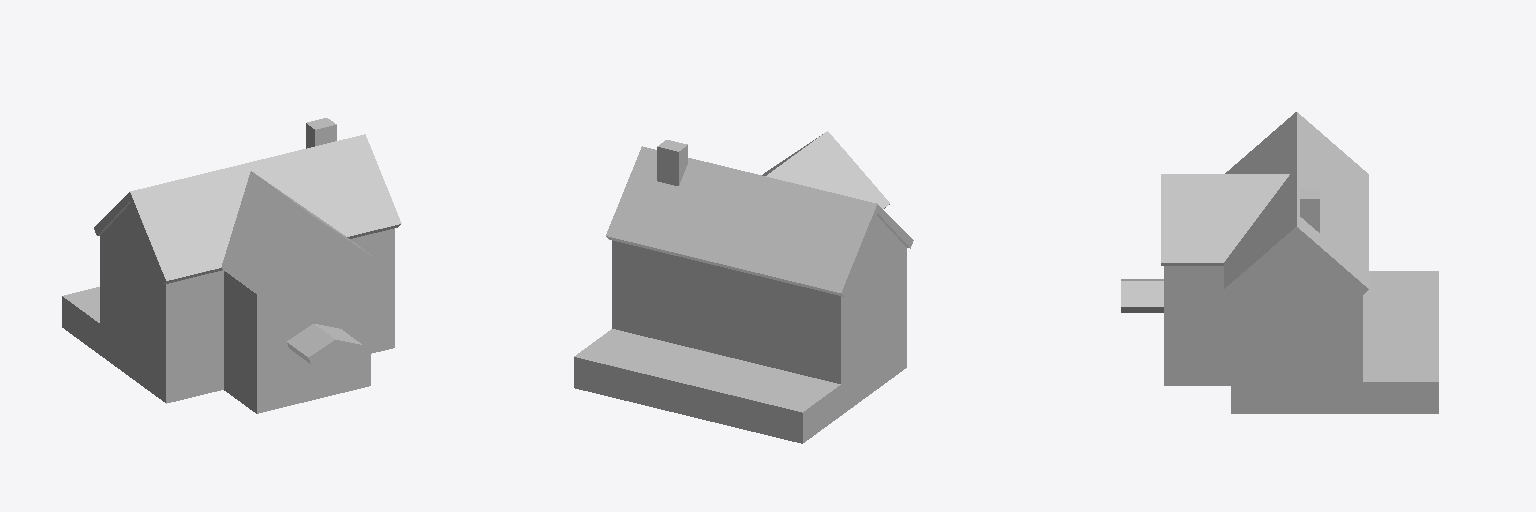
Rendered from FarmHouse.obj.
3 views of the same model, side by side, from view 1: azimuth 30°, elevation 25°; view 2: azimuth 150°, elevation 25°; view 3: azimuth 270°, elevation 25° (orthographic).
Parts seen in each view (by area): view 1: FarmHouse PROPS; view 2: FarmHouse PROPS; view 3: FarmHouse PROPS.
Part boxes in pixels (x1,y1,x2,y2): FarmHouse PROPS: (62, 118, 401, 413); FarmHouse PROPS: (574, 131, 913, 443); FarmHouse PROPS: (1121, 112, 1438, 413).
Bounding box in the file's own units: 6.18 × 5.1 × 7.24.